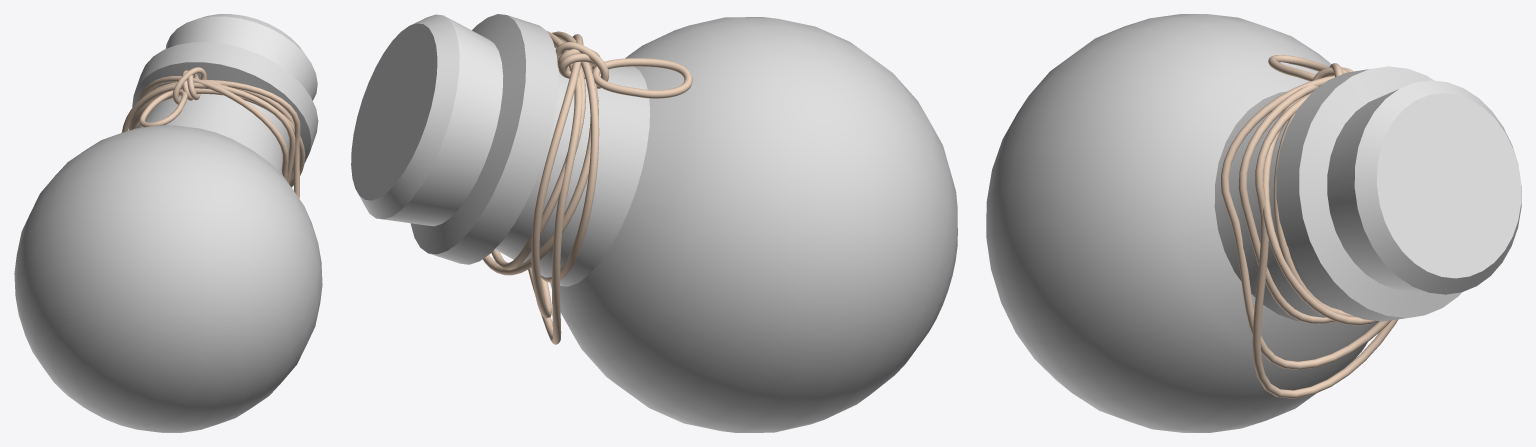
Rendered from Зелье.fbx.
The picture shows the model from 3 angles, left to right: view 1: azimuth 30°, elevation 25°; view 2: azimuth 150°, elevation 25°; view 3: azimuth 270°, elevation 25°; orthographic projection. The views are drawn at different scales.
Parts seen in each view (by area): view 1: Sphere.007, BezierCircle.004, Cylinder.014; view 2: Sphere.007, Cylinder.014, BezierCircle.004; view 3: Sphere.007, Cylinder.014, BezierCircle.004.
Part boxes in pixels (box(x1,y1,x2,y2)): Sphere.007: box(14, 42, 322, 432); BezierCircle.004: box(121, 67, 305, 198); Cylinder.014: box(165, 14, 317, 100); Sphere.007: box(410, 14, 957, 432); Cylinder.014: box(351, 14, 503, 226); BezierCircle.004: box(482, 31, 692, 344); Sphere.007: box(986, 14, 1461, 432); Cylinder.014: box(1327, 80, 1521, 294); BezierCircle.004: box(1221, 55, 1398, 398).
Size of the model in its own units: 13.66 by 11.65 by 13.39.
